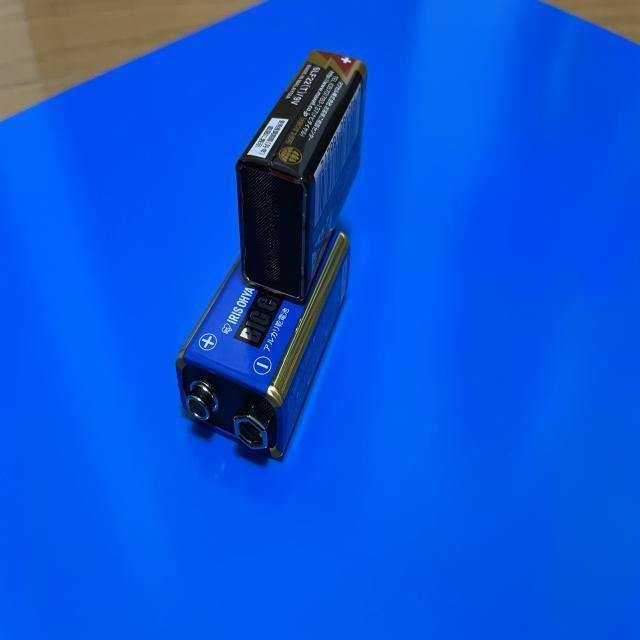9V: (174, 230, 351, 466), (233, 48, 369, 303)
